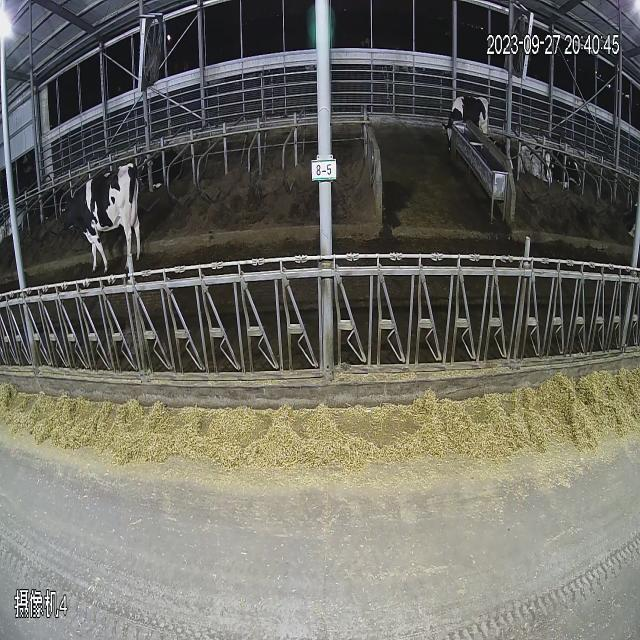lying down: (548, 111, 592, 205), (138, 128, 192, 202), (514, 115, 556, 202)
standing: (56, 146, 145, 284), (437, 62, 495, 180)
